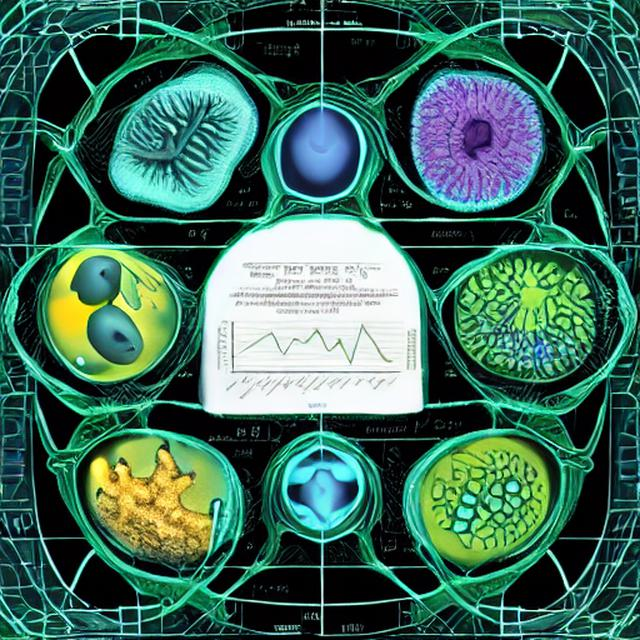Graph: (211, 297, 404, 411)
